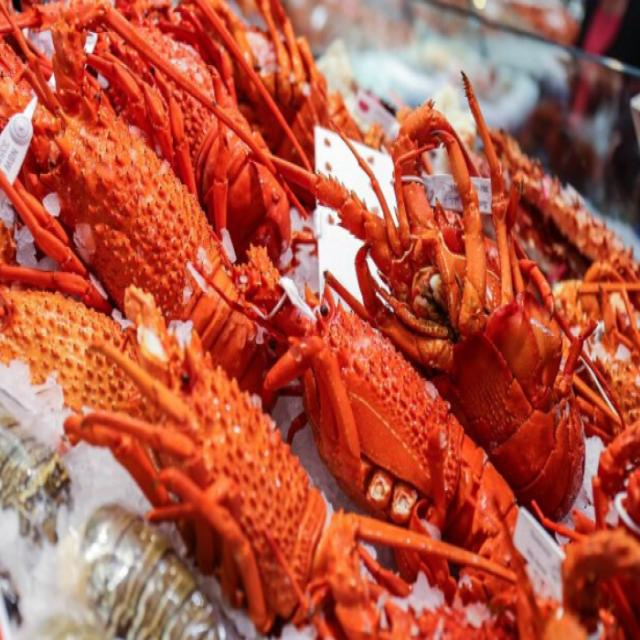Lobster: (0, 287, 376, 633), (318, 76, 594, 516), (0, 20, 269, 391), (267, 287, 518, 565)
